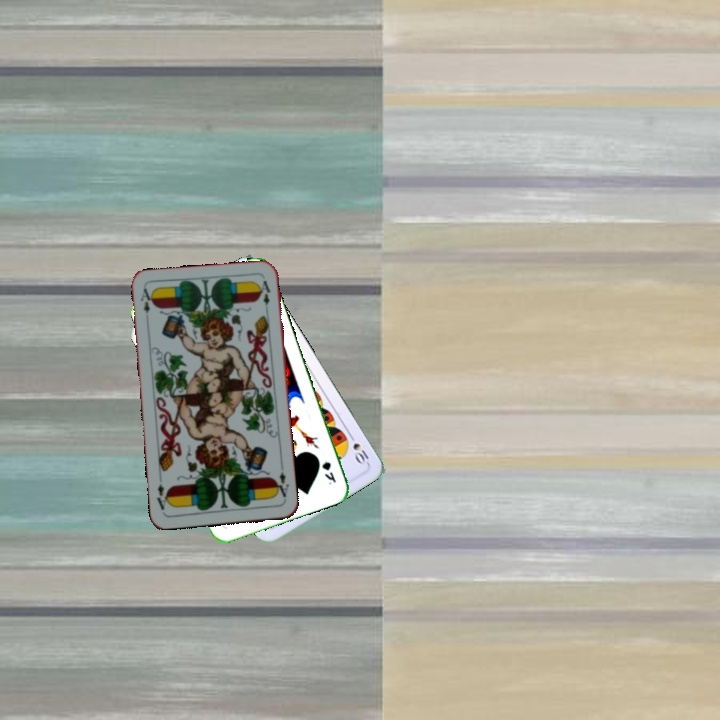EA: (136, 284, 155, 325), (271, 468, 292, 503)
GK: (318, 457, 339, 487)
S10: (345, 429, 371, 467)
